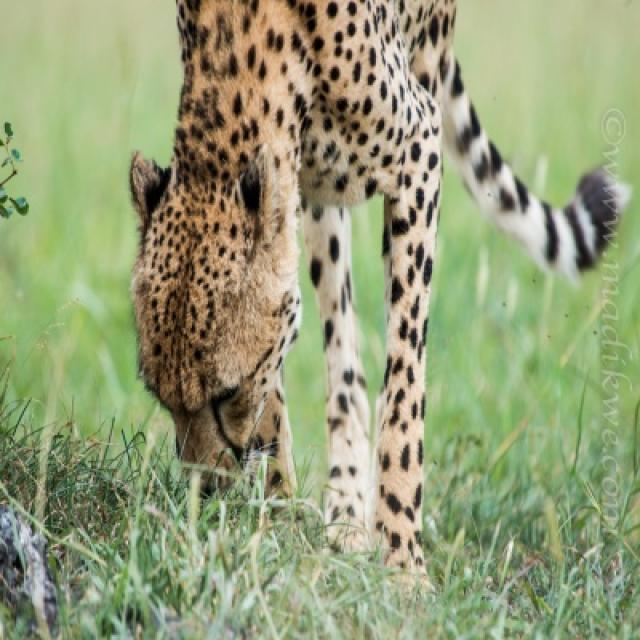Cheetah: (130, 0, 627, 568)
